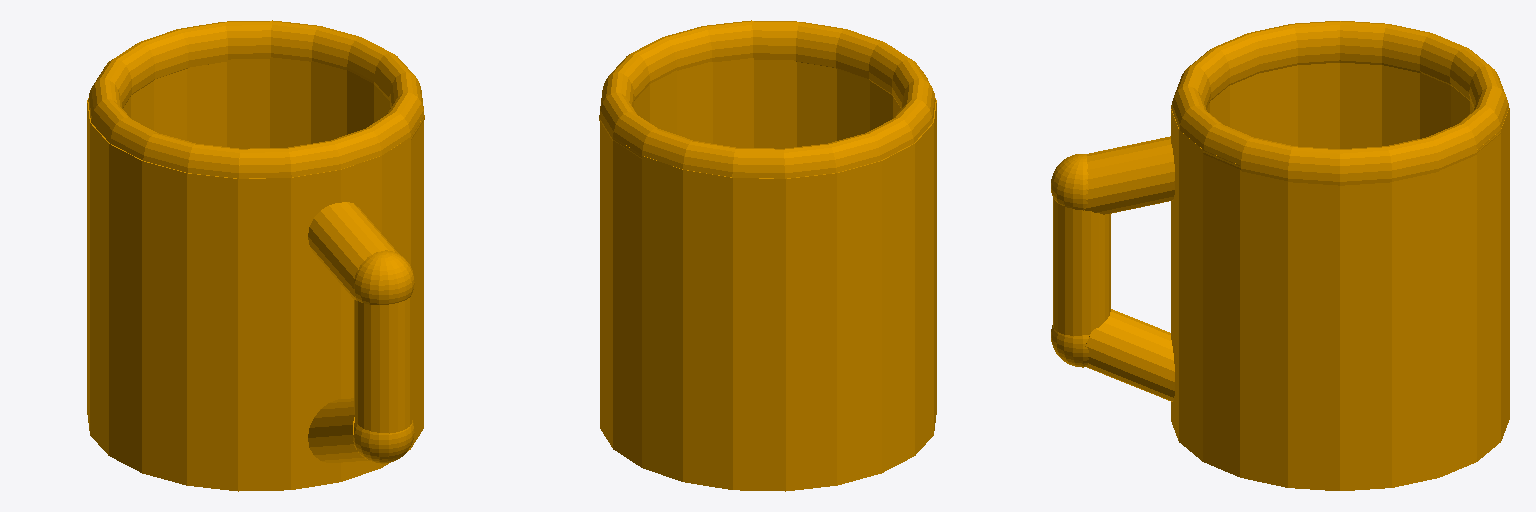
URDF robot description (coffee_mug):
<robot name="coffee_mug">
  <link name="coffee_mug">
    <inertial>
      <origin xyz="0 0 0.0145"/>
      <mass value="0.1" />
      <inertia  ixx="0.0001" ixy="0.0"  ixz="0.0"  iyy="0.0001"  iyz="0.0"  izz="0.0001" />
    </inertial>
    <visual>
      <origin xyz="0 0 0.0145"/>
      <geometry>        
     <mesh filename="coffee_mug.dae" scale="1 1 1"/>
    </geometry>
    </visual>
    <collision>
      <origin xyz="0 0 0.0145"/>
      <geometry>
        <box size="0.029 0.029 0.029"/>
      </geometry>
    </collision>
  </link>
  <gazebo reference="coffee_mug">
    <material>Gazebo/Blue</material>
  </gazebo>
</robot>

--- Facts derived from the render (not from the file) ---
3 views of the same robot in one strip: view 1: azimuth 30°, elevation 25°; view 2: azimuth 150°, elevation 25°; view 3: azimuth 270°, elevation 25° (orthographic).
Model coffee_mug with 1 links and 0 joints (none), rooted at coffee_mug, posed all joints at 0.
Links seen in each view (by area): view 1: coffee_mug; view 2: coffee_mug; view 3: coffee_mug.
Boxes of the visible links, box(x1,y1,x2,y2) form: coffee_mug: box(87, 20, 424, 491); coffee_mug: box(599, 20, 936, 491); coffee_mug: box(1051, 21, 1509, 490).
Size in the robot's own frame: 0.0886 by 0.1199 by 0.0964 metres.
1 mesh visuals loaded from 1 distinct referenced files (1 Collada DAE).